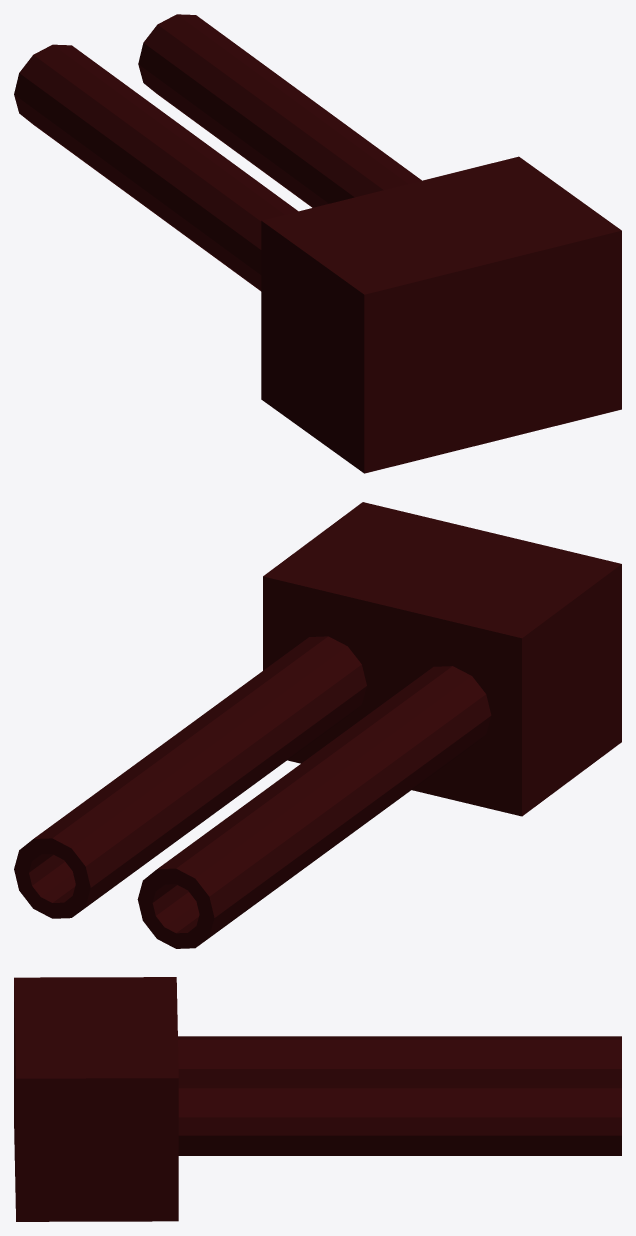
3 renders of one model, top to bottom at view 1: azimuth 30°, elevation 25°; view 2: azimuth 150°, elevation 25°; view 3: azimuth 270°, elevation 25°, orthographic. The views are drawn at different scales.
Parts seen in each view (by area): view 1: MG; view 2: MG; view 3: MG.
Part boxes in pixels (x1,y1,x2,y2): MG: [14, 14, 621, 473]; MG: [14, 502, 621, 948]; MG: [14, 977, 621, 1221].
Bounding box in the file's own units: 0.1901 × 0.1249 × 0.4806.
